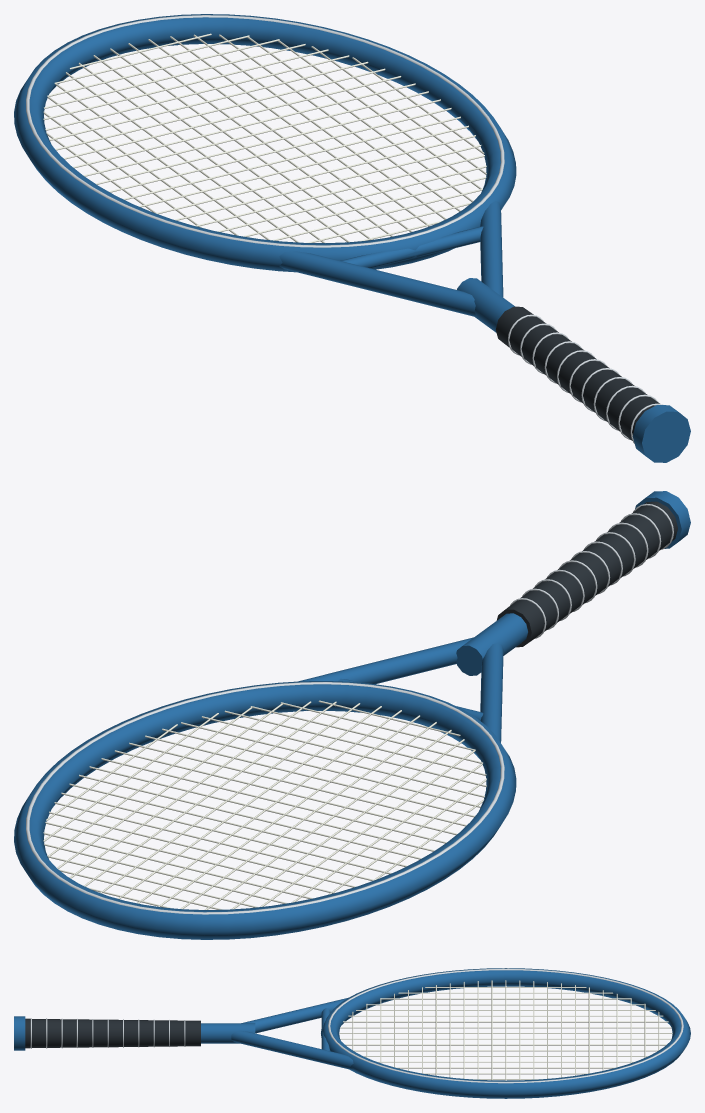
File: tennis_racket.glb
The picture shows the model from 3 angles, top to bottom: view 1: azimuth 30°, elevation 25°; view 2: azimuth 150°, elevation 25°; view 3: azimuth 270°, elevation 25°; orthographic projection. The views are drawn at different scales.
Parts seen in each view (by area): view 1: Oval tubular racket frame, Wrapped handle grip, Open throat support, Inset silver frame stripe, Grip butt cap, Open throat support.001, Throat cross brace, Handle shaft, Cross string 13, Cross string 12, Cross string 14, Cross string 11 (+17 smaller); view 2: Oval tubular racket frame, Wrapped handle grip, Inset silver frame stripe, Open throat support.001, Handle shaft, Open throat support, Grip butt cap, Cross string 11, Cross string 12, Cross string 10, Cross string 13, Cross string 9 (+16 smaller); view 3: Oval tubular racket frame, Wrapped handle grip, Inset silver frame stripe, Open throat support.001, Open throat support, Handle shaft, Longitudinal string 7, Longitudinal string 10, Longitudinal string 8, Longitudinal string 11, Longitudinal string 6, Longitudinal string 12 (+11 smaller).
Part boxes in pixels (bbox=[...]): Oval tubular racket frame: bbox=[14, 14, 516, 272]; Wrapped handle grip: bbox=[495, 306, 659, 440]; Open throat support: bbox=[279, 251, 475, 316]; Inset silver frame stripe: bbox=[26, 15, 504, 247]; Grip butt cap: bbox=[632, 405, 690, 462]; Open throat support.001: bbox=[480, 200, 503, 297]; Throat cross brace: bbox=[340, 226, 483, 268]; Handle shaft: bbox=[457, 278, 514, 332]; Cross string 13: bbox=[83, 91, 428, 176]; Cross string 12: bbox=[95, 99, 440, 184]; Cross string 14: bbox=[73, 83, 415, 168]; Cross string 11: bbox=[108, 108, 451, 192]; Oval tubular racket frame: bbox=[14, 681, 516, 939]; Wrapped handle grip: bbox=[496, 501, 677, 647]; Inset silver frame stripe: bbox=[26, 682, 504, 914]; Open throat support.001: bbox=[298, 637, 473, 684]; Handle shaft: bbox=[456, 613, 527, 675]; Open throat support: bbox=[480, 643, 503, 742]; Grip butt cap: bbox=[635, 491, 690, 548]; Cross string 11: bbox=[101, 758, 446, 843]; Cross string 12: bbox=[89, 766, 434, 851]; Cross string 10: bbox=[115, 750, 457, 834]; Cross string 13: bbox=[79, 774, 421, 859]; Cross string 9: bbox=[129, 742, 466, 826]; Oval tubular racket frame: bbox=[321, 968, 690, 1098]; Wrapped handle grip: bbox=[25, 1018, 200, 1048]; Inset silver frame stripe: bbox=[328, 968, 683, 1083]; Open throat support.001: bbox=[231, 1030, 353, 1070]; Open throat support: bbox=[241, 997, 348, 1033]; Handle shaft: bbox=[201, 1023, 255, 1043]; Longitudinal string 7: bbox=[343, 1021, 668, 1022]; Longitudinal string 10: bbox=[340, 1038, 671, 1039]; Longitudinal string 8: bbox=[340, 1027, 671, 1028]; Longitudinal string 11: bbox=[345, 1044, 666, 1045]; Longitudinal string 6: bbox=[348, 1015, 663, 1016]; Longitudinal string 12: bbox=[353, 1050, 658, 1051].
Size of the model in its own units: 0.278 by 0.034 by 0.662.
